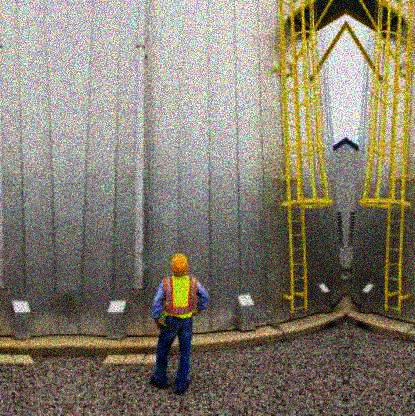helmet: (166, 253, 193, 279)
